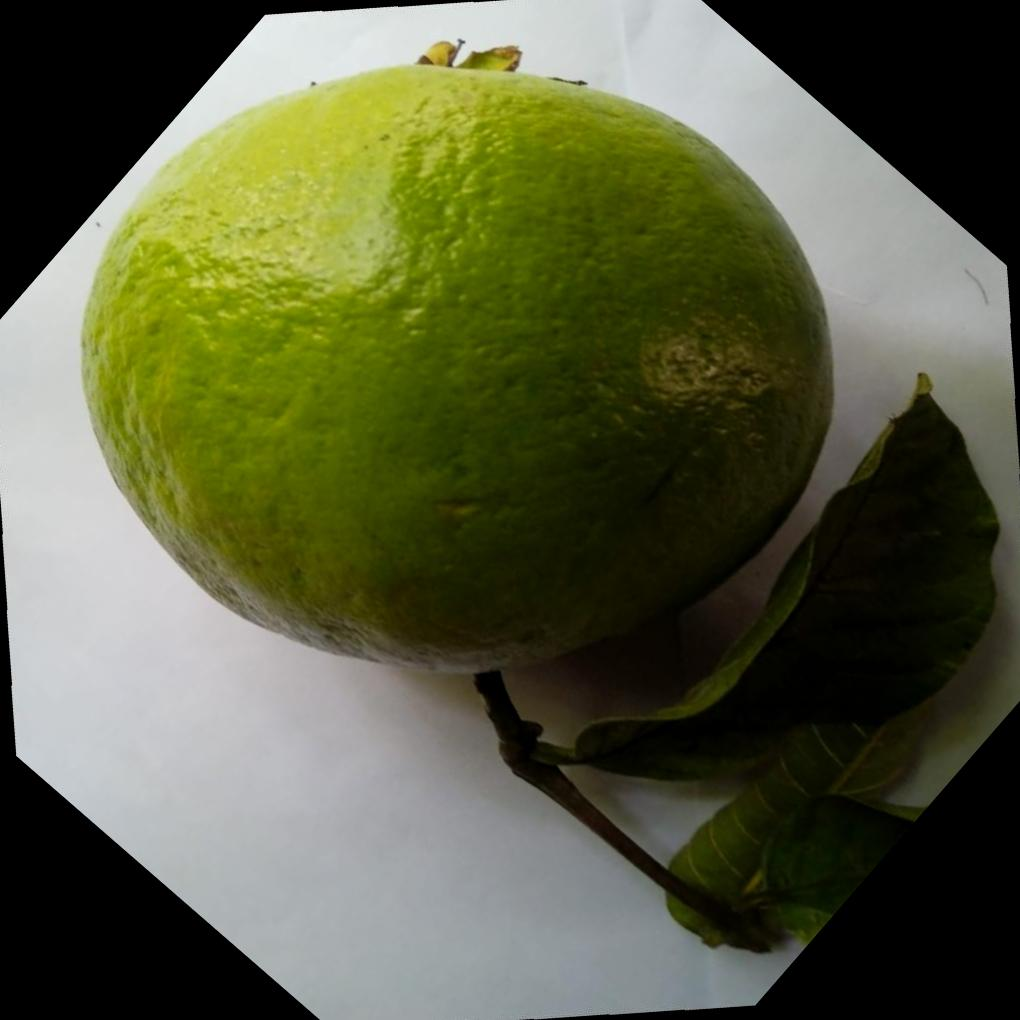FreshGuava: (75, 46, 1020, 950)
